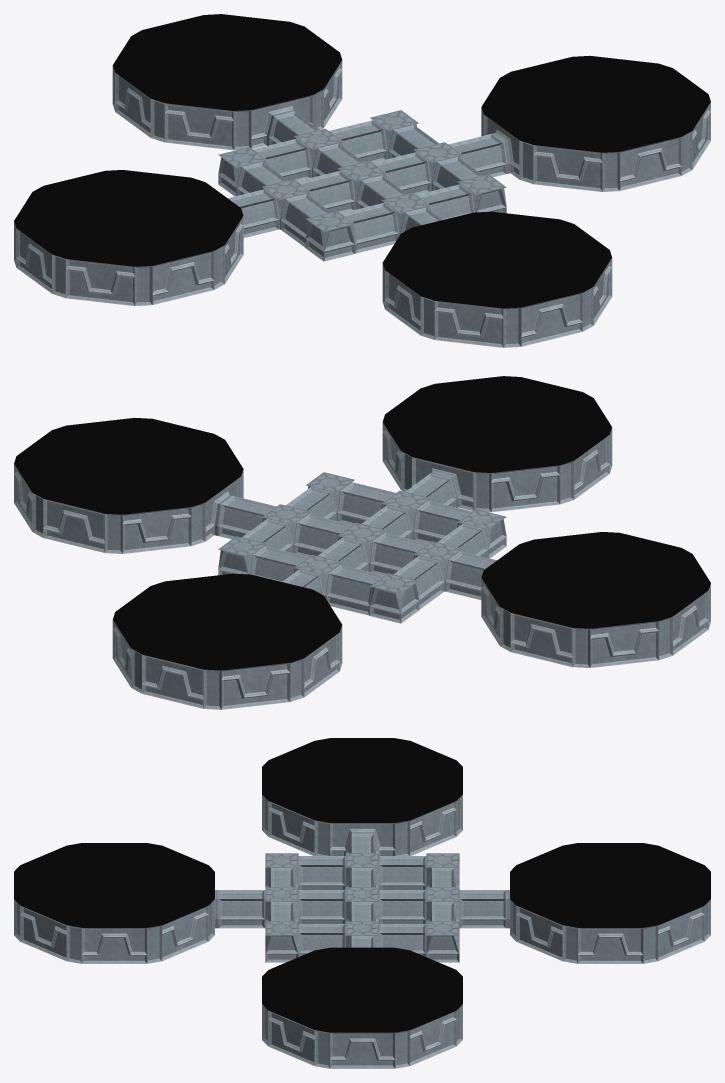
File: Mystic_Ruins.fbx
3 renders of one model, top to bottom at view 1: azimuth 30°, elevation 25°; view 2: azimuth 150°, elevation 25°; view 3: azimuth 270°, elevation 25°, orthographic. The views are drawn at different scales.
Visible parts, largest first — view 1: mystic_ruins; view 2: mystic_ruins; view 3: mystic_ruins.
Boxes of the visible parts, x1,y1,x2,y2 form: mystic_ruins: [14, 14, 710, 347]; mystic_ruins: [14, 376, 710, 709]; mystic_ruins: [14, 738, 710, 1068].
Size of the model in its own units: 21.36 by 1.22 by 21.36.
